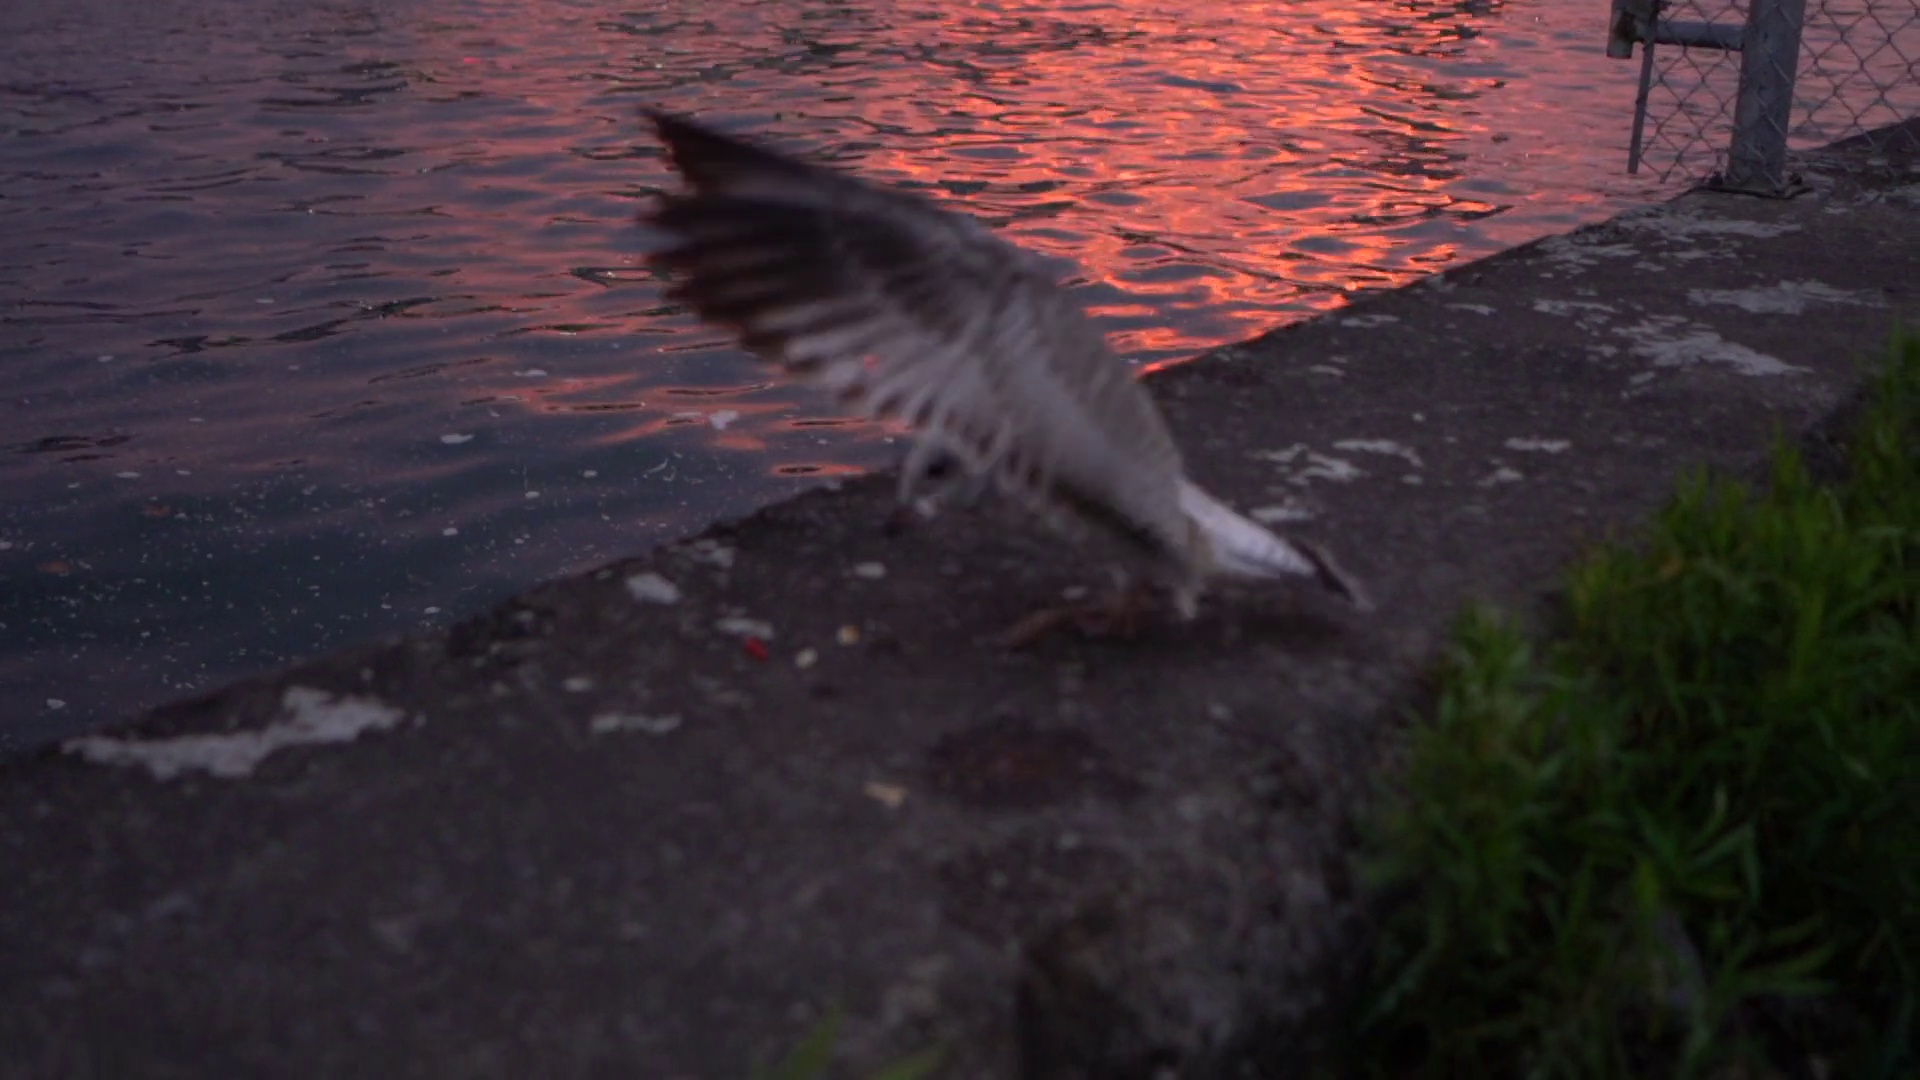bird: (644, 105, 1371, 638)
